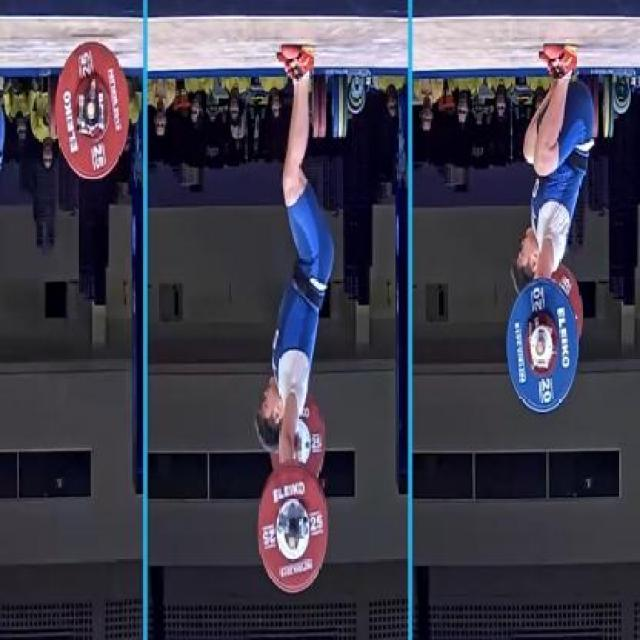Barbell: (76, 83, 115, 148), (527, 323, 561, 371), (280, 509, 306, 571)
